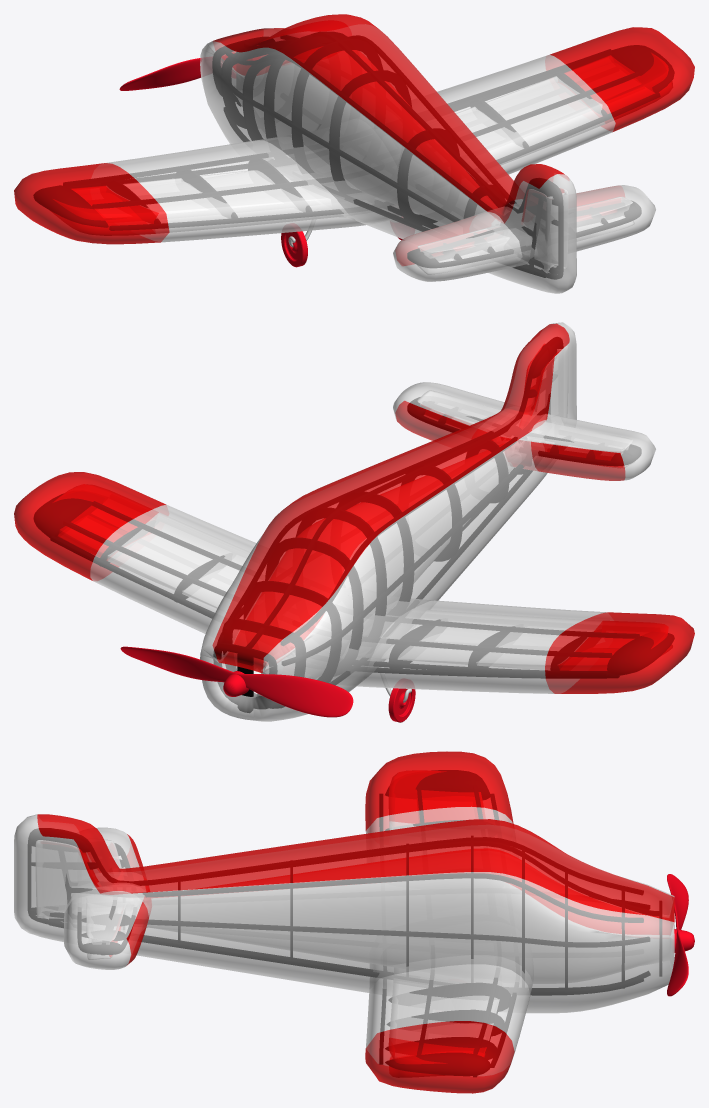
Rendered from Enemy Plane.fbx.
3 views of the same model, one above another, from view 1: azimuth 30°, elevation 25°; view 2: azimuth 150°, elevation 25°; view 3: azimuth 270°, elevation 25° (orthographic).
Visible parts, largest first — view 1: Plane.001, Plane.012; view 2: Plane.001, Plane.012; view 3: Plane.001, Plane.012.
Boxes of the visible parts, box(x1,y1,x2,y2) form: Plane.001: box(14, 14, 694, 293); Plane.012: box(119, 58, 202, 90); Plane.001: box(14, 322, 694, 722); Plane.012: box(120, 646, 353, 717); Plane.001: box(14, 751, 694, 1093); Plane.012: box(667, 874, 688, 996).
Bounding box in the file's own units: 531 × 181 × 484.
